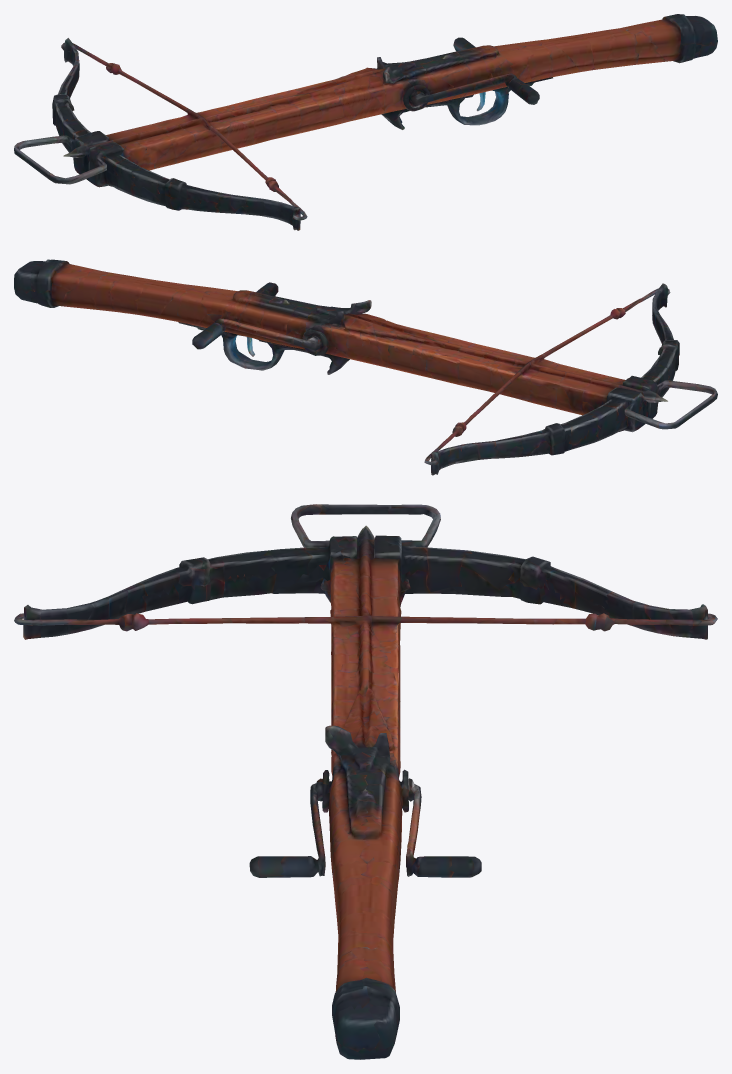
Rendered from heavy crossbow.glb.
3 renders of one model, top to bottom at view 1: azimuth 30°, elevation 25°; view 2: azimuth 150°, elevation 25°; view 3: azimuth 270°, elevation 25°, orthographic. The views are drawn at different scales.
Size of the model in its own units: 1.9 by 0.2234 by 1.16.
Materials: 1 (1 with a texture image).
